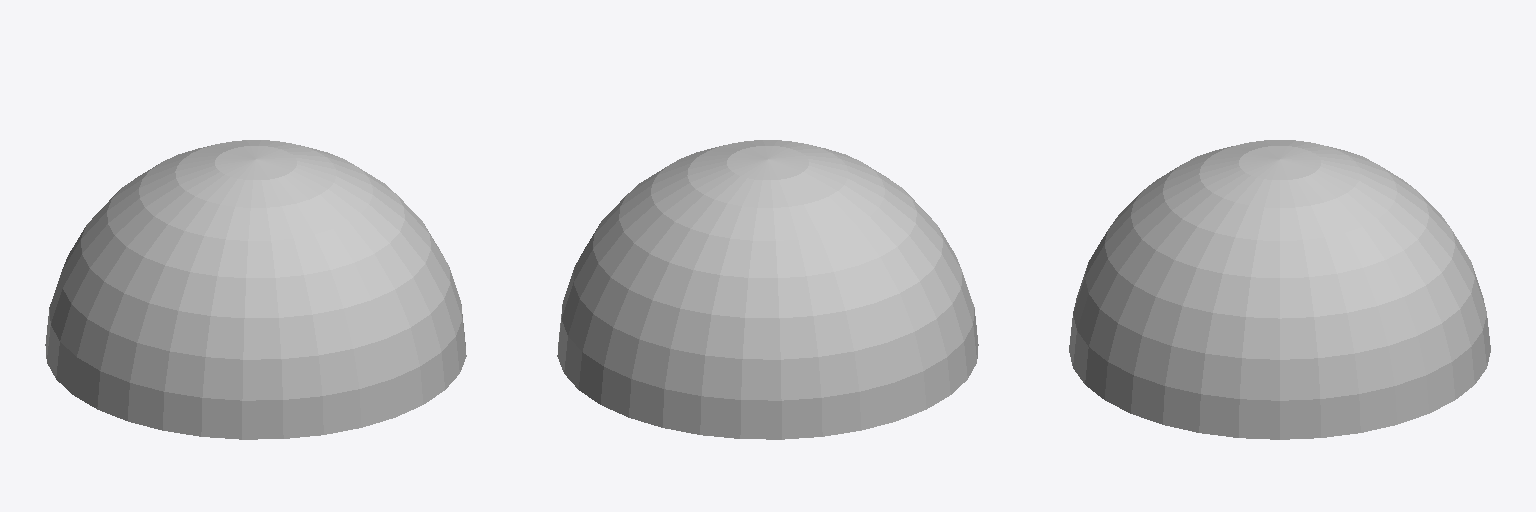
Rendered from light.obj.
The picture shows the model from 3 angles: view 1: azimuth 30°, elevation 25°; view 2: azimuth 150°, elevation 25°; view 3: azimuth 270°, elevation 25°; orthographic projection.
Parts seen in each view (by area): view 1: Sphere; view 2: Sphere; view 3: Sphere.
Part boxes in pixels (x1,y1,x2,y2): Sphere: (45,140,466,439); Sphere: (557,140,978,439); Sphere: (1069,140,1490,439).
Bounding box in the file's own units: 2 × 1.01 × 2.